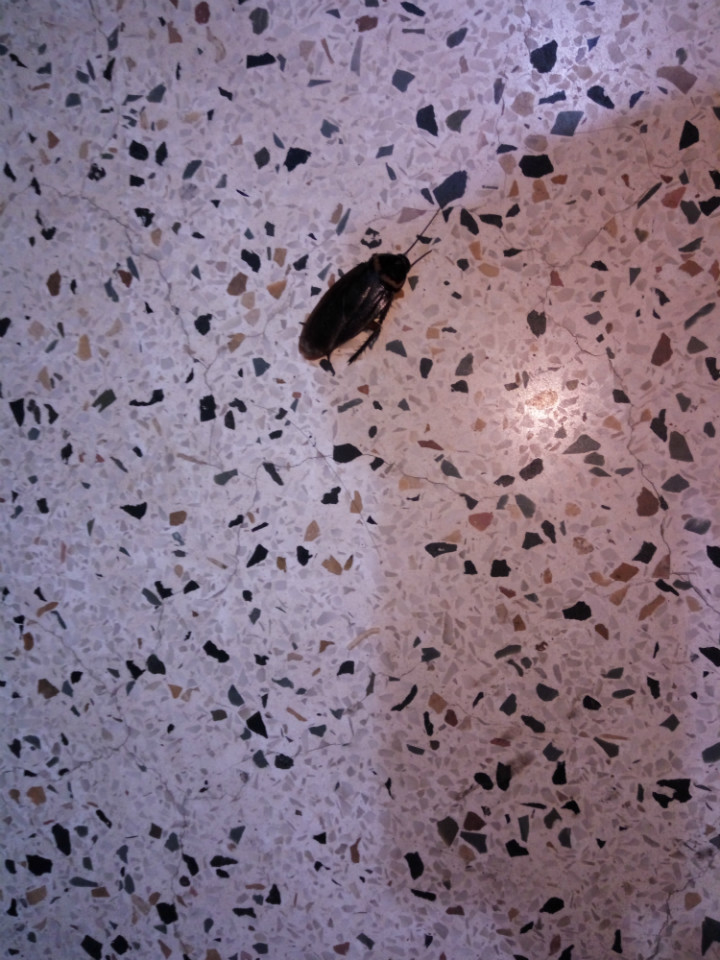cockroach: (222, 165, 518, 450)
